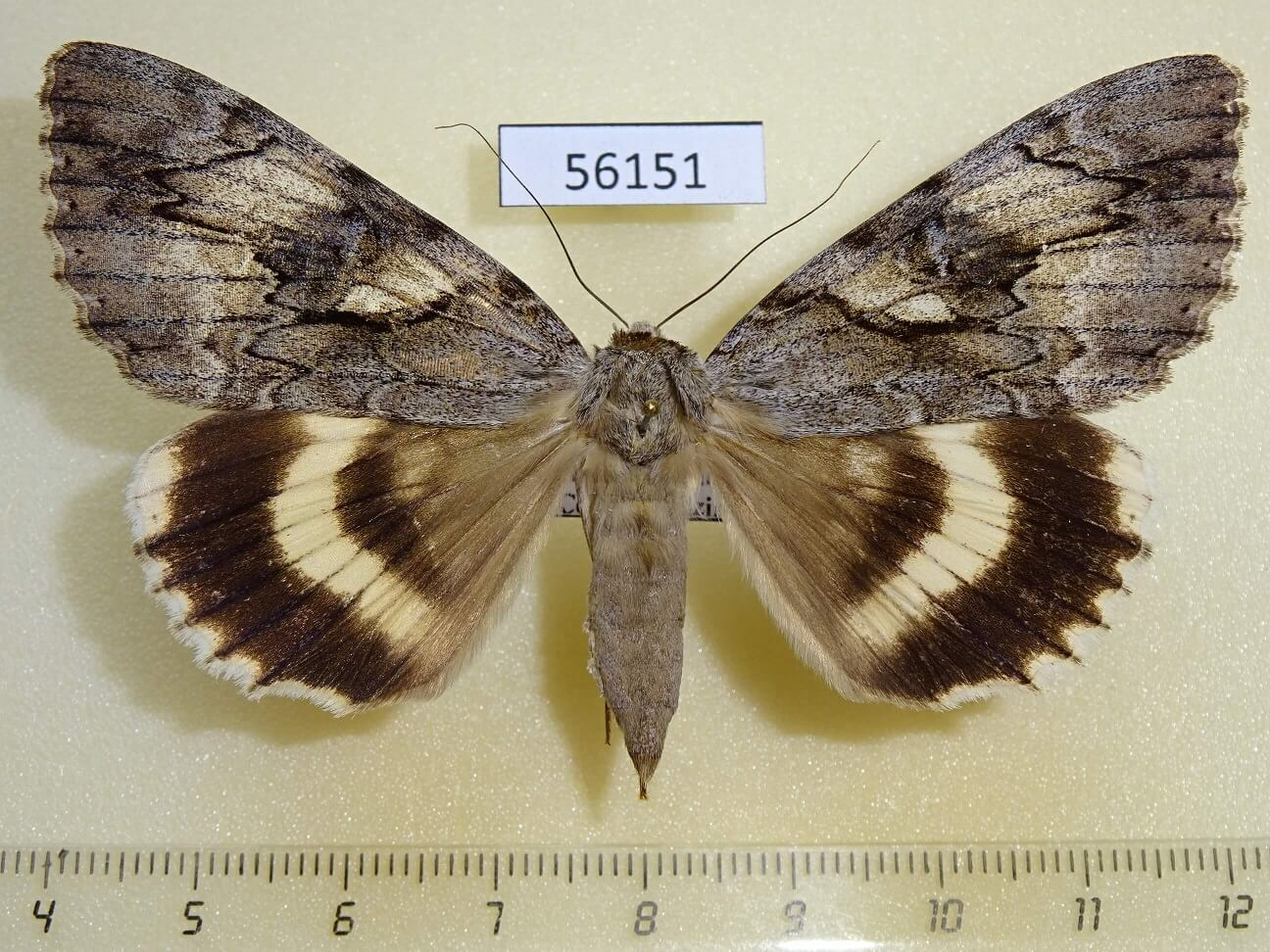Noctuidae: (33, 49, 1251, 804)
